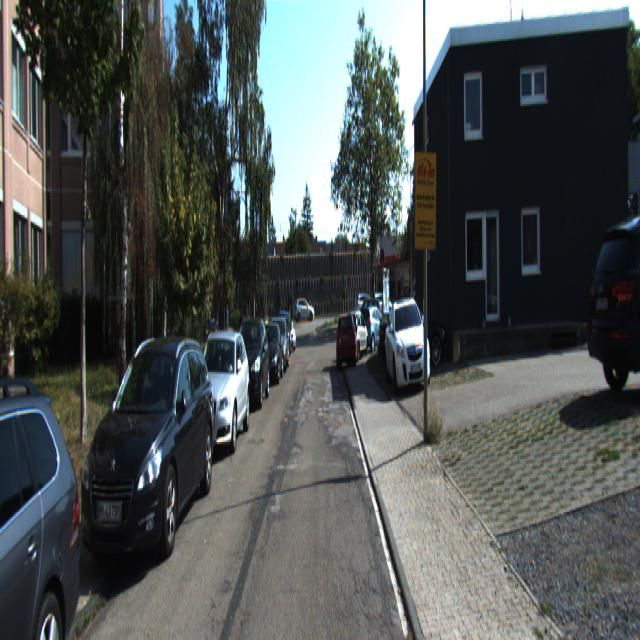Car: (73, 325, 217, 586), (0, 357, 93, 638), (583, 179, 639, 398), (185, 328, 250, 462), (378, 290, 446, 367), (384, 292, 432, 391), (228, 312, 271, 410), (257, 317, 284, 386), (343, 308, 370, 361), (358, 304, 386, 355), (335, 306, 358, 368), (266, 315, 289, 373), (353, 292, 376, 316), (293, 297, 313, 319)
